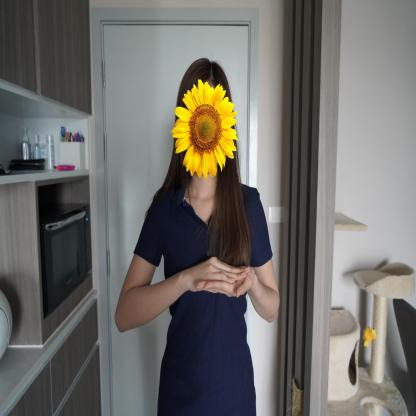Love: (171, 253, 265, 306)
